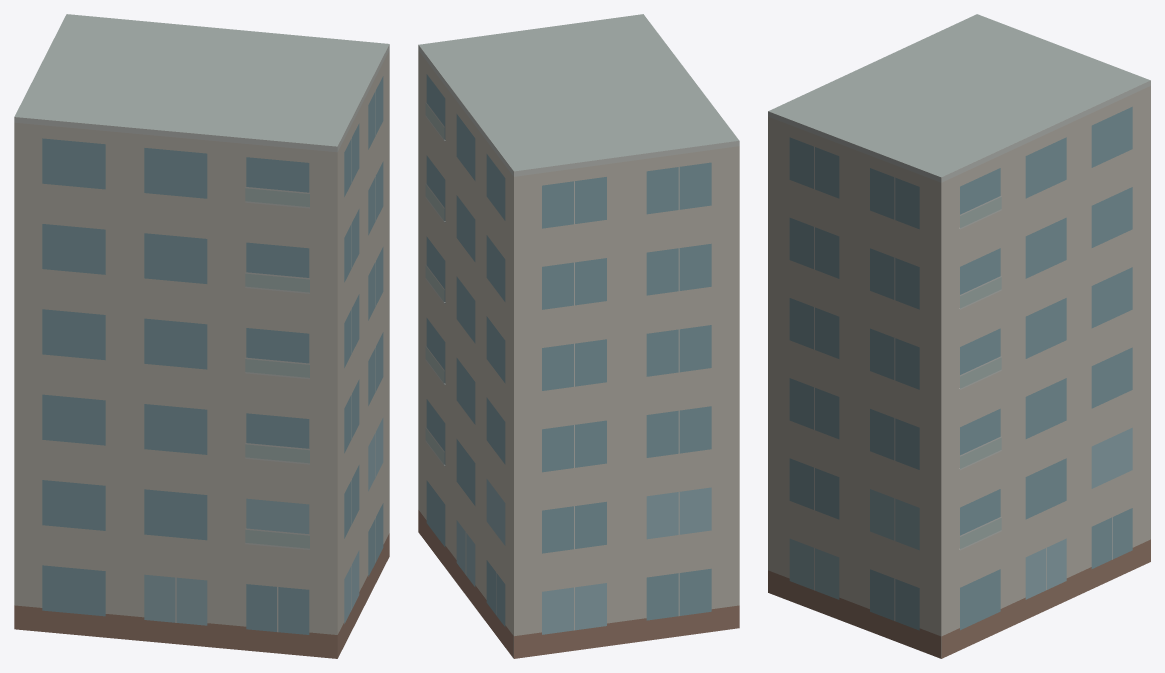
File: survey-upis-32843817.glb
The picture shows the model from 3 angles, left to right: view 1: azimuth 30°, elevation 25°; view 2: azimuth 150°, elevation 25°; view 3: azimuth 270°, elevation 25°; orthographic projection. The views are drawn at different scales.
Visible parts, largest first — view 1: survey-upis-32843817.tmp; view 2: survey-upis-32843817.tmp; view 3: survey-upis-32843817.tmp.
Part boxes in pixels (x1=…): survey-upis-32843817.tmp: x1=14, y1=14, x2=389, y2=658; survey-upis-32843817.tmp: x1=418, y1=14, x2=739, y2=658; survey-upis-32843817.tmp: x1=768, y1=14, x2=1150, y2=658.
Bounding box in the file's own units: 15.95 × 21.9 × 15.79.
